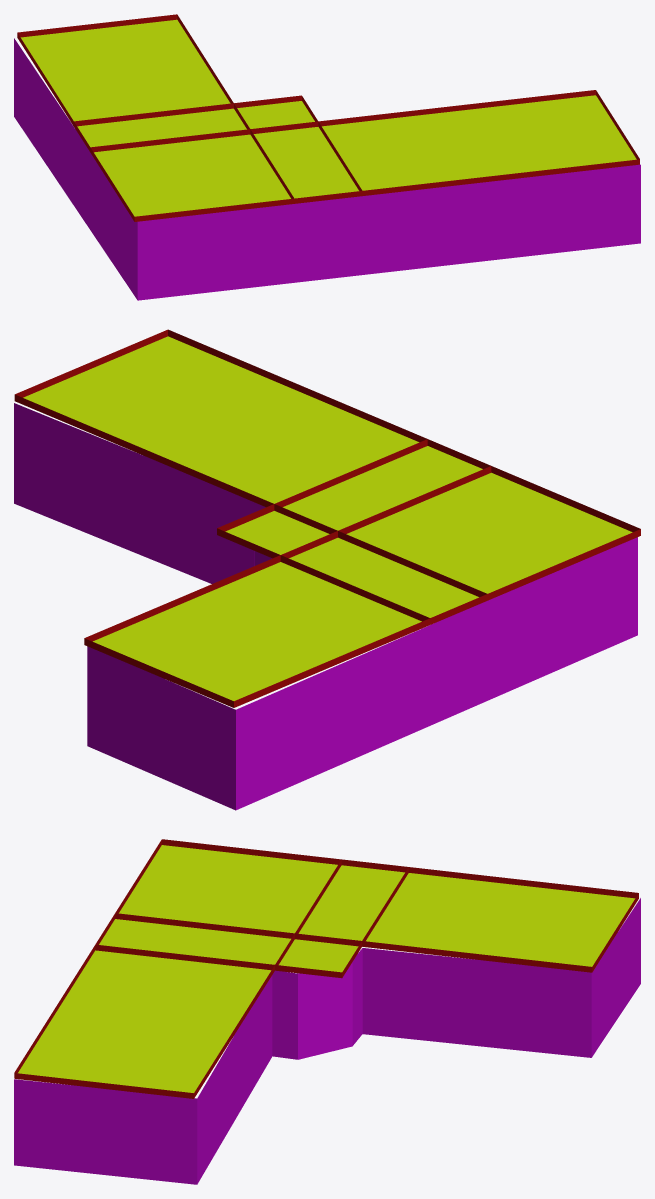
Rendered from ssv_21.glb.
The picture shows the model from 3 angles, top to bottom: view 1: azimuth 30°, elevation 25°; view 2: azimuth 150°, elevation 25°; view 3: azimuth 270°, elevation 25°; orthographic projection. The views are drawn at different scales.
Parts seen in each view (by area): view 1: ssv_21; view 2: ssv_21; view 3: ssv_21.
Boxes of the visible parts, x1,y1,x2,y2 form: ssv_21: (14,14,640,300); ssv_21: (14,329,640,810); ssv_21: (14,839,640,1184).
Size of the model in its own units: 32.61 by 5.52 by 34.02.
